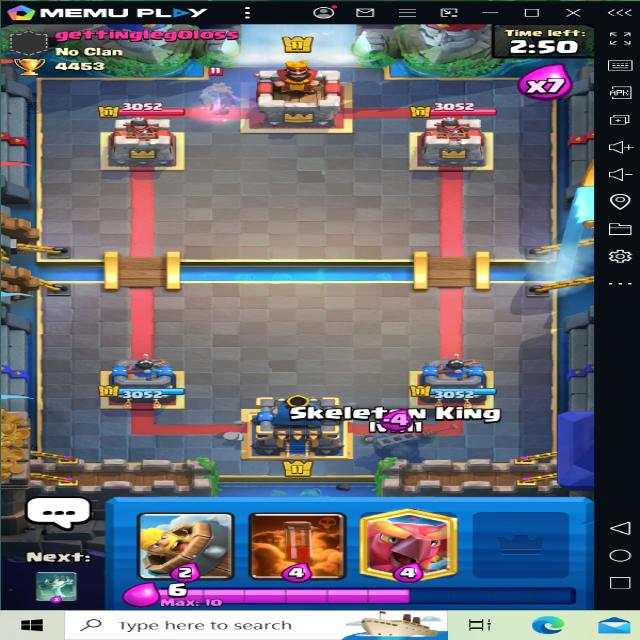royal-ghost: (192, 65, 245, 117)
